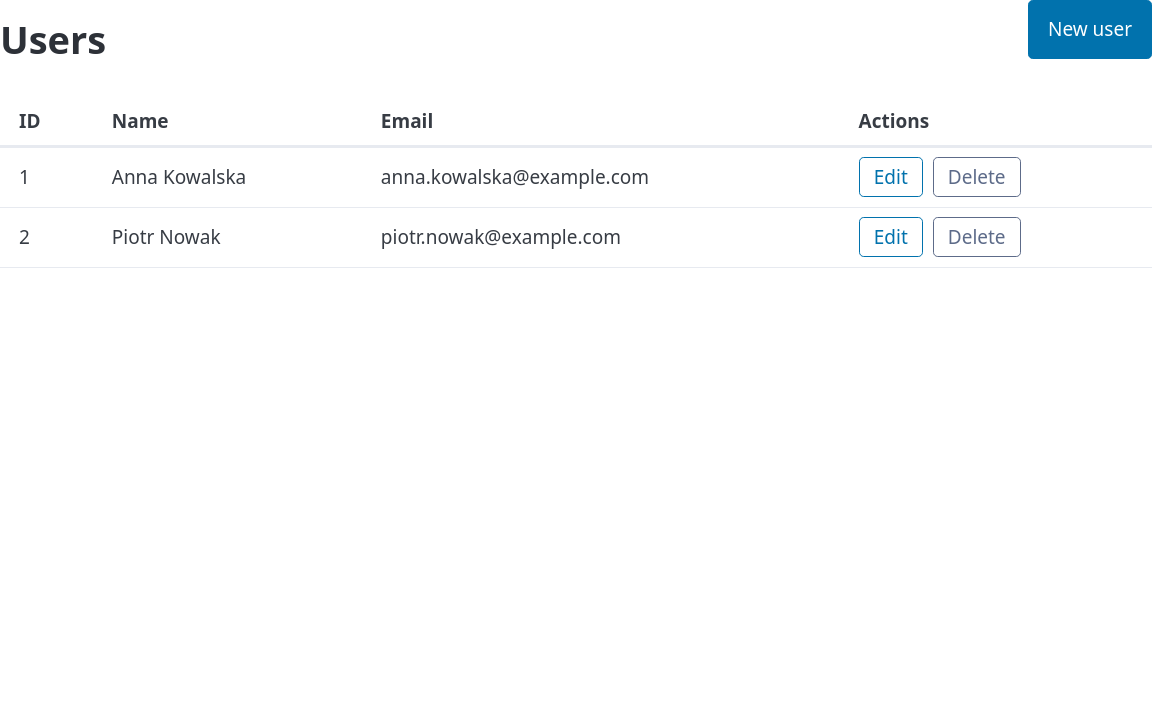
Test: UsersPage › creates a user and shows it on the list
This screenshot has width=1152, height=720.
Expected: the text "Anna Kowalska" is shown, [93, 146, 362, 207]
Click the button "New user".
click(1090, 30)  # box [1028, 0, 1151, 59]
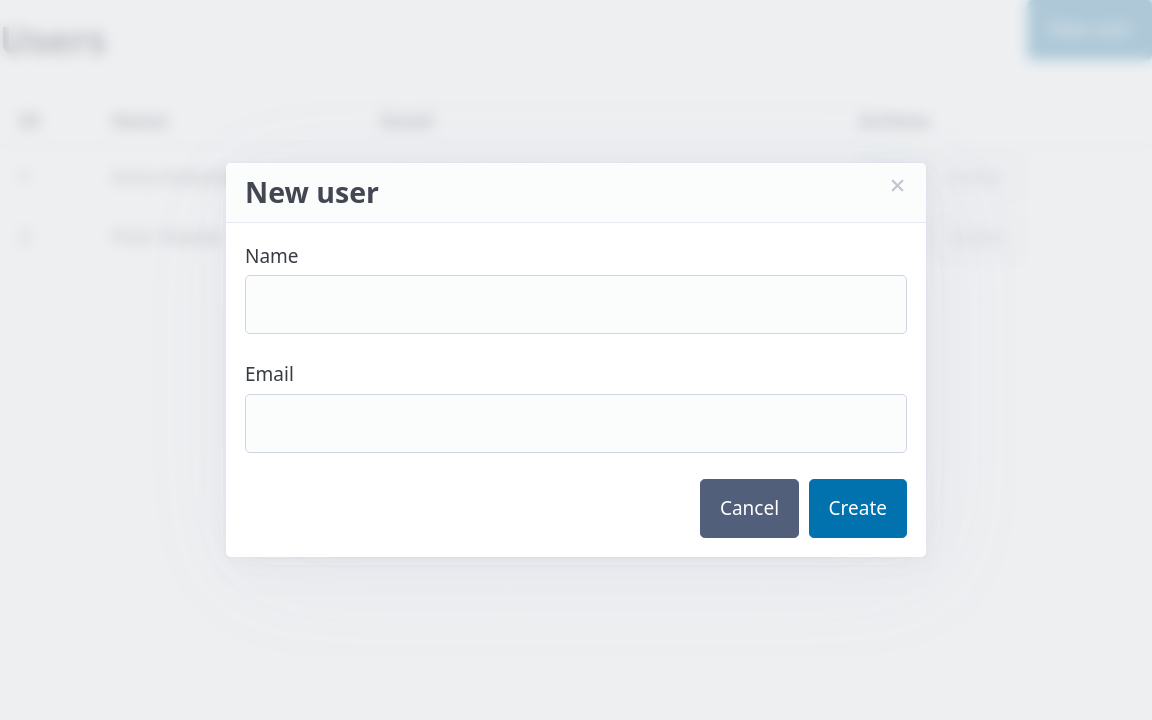
Type "Jan Zieliński" into the field labelled "Name".
click(576, 304); type("Jan Zieliński")  # box [245, 275, 907, 334]
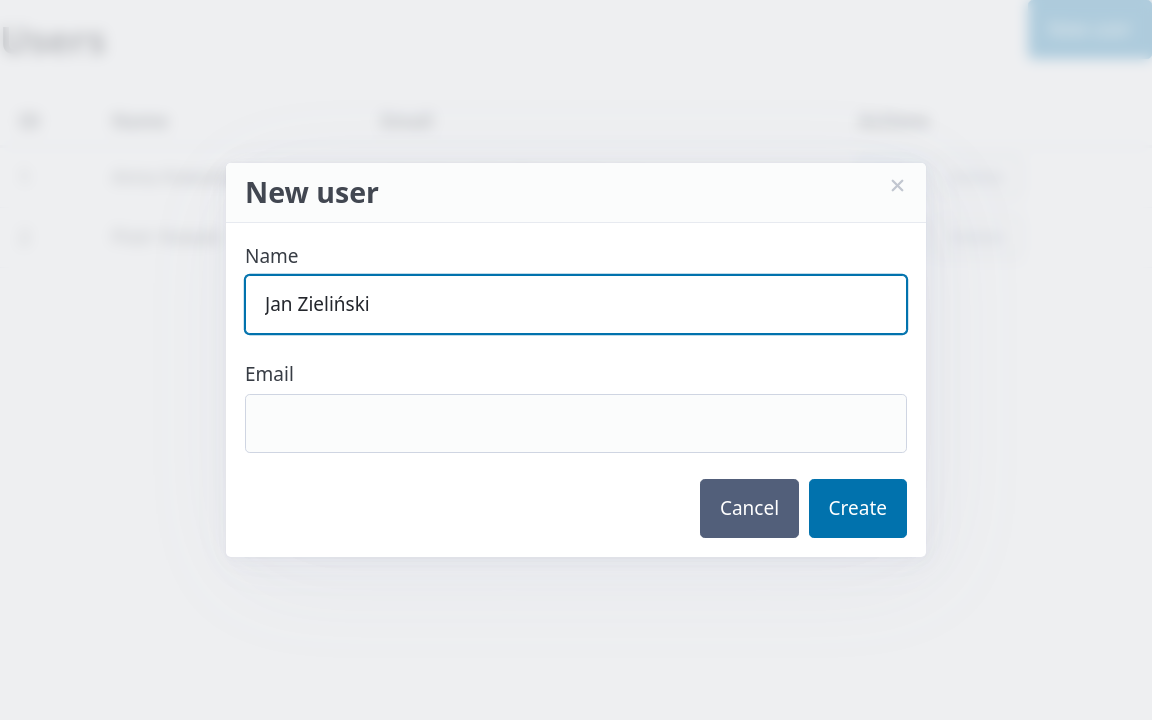
Type "jan.zielinski@example.com" into the field labelled "Email".
click(576, 423); type("jan.zielinski@example.com")  # box [245, 394, 907, 453]
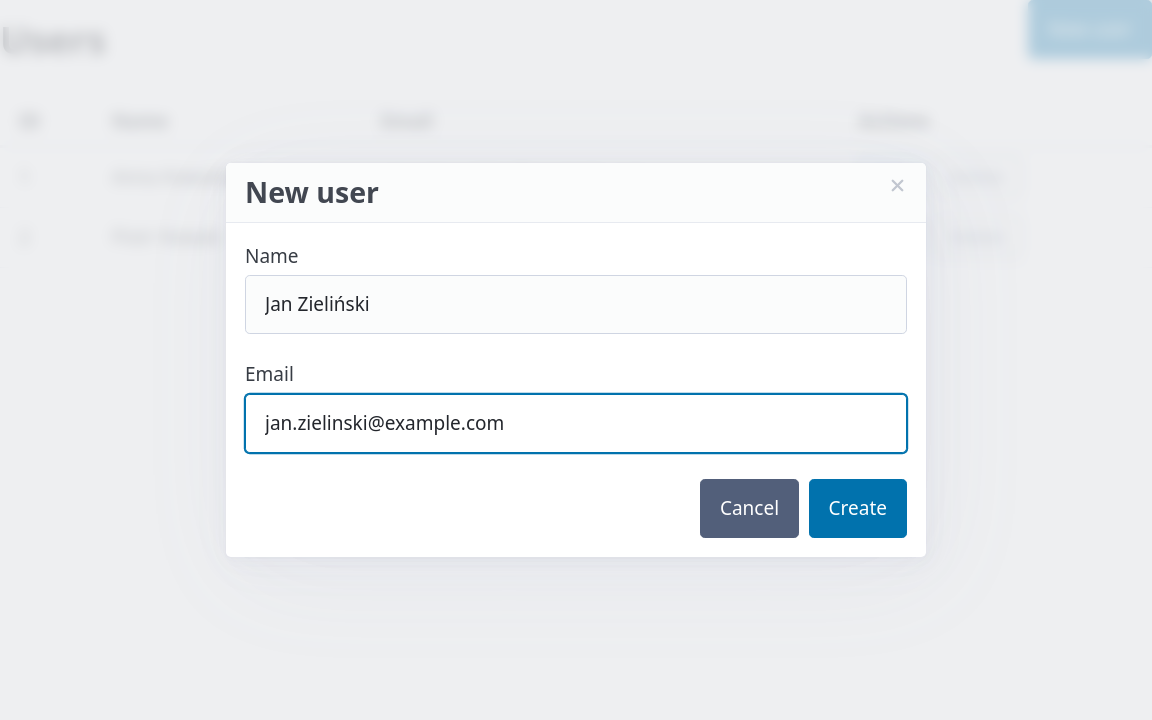
Click the button "Create".
click(858, 508)  # box [809, 479, 907, 538]
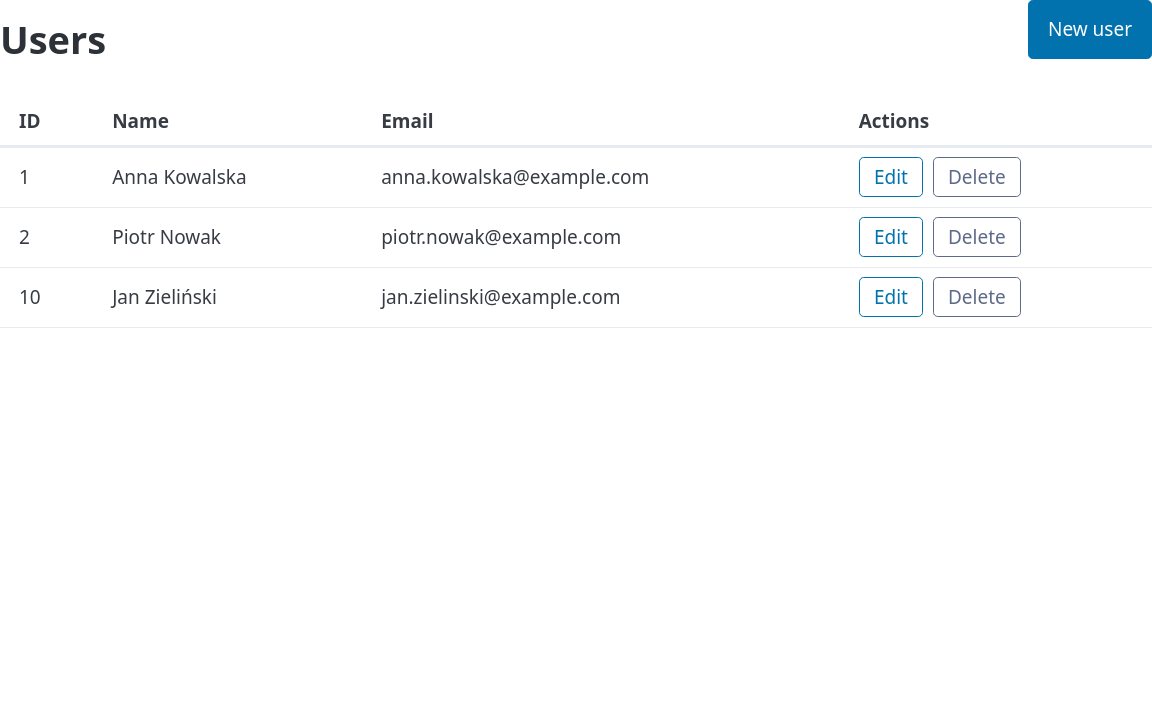
Expected: the text "Jan Zieliński" is shown, [93, 267, 362, 327]
Expected: the text "jan.zielinski@example.com" is shown, [362, 267, 840, 327]
